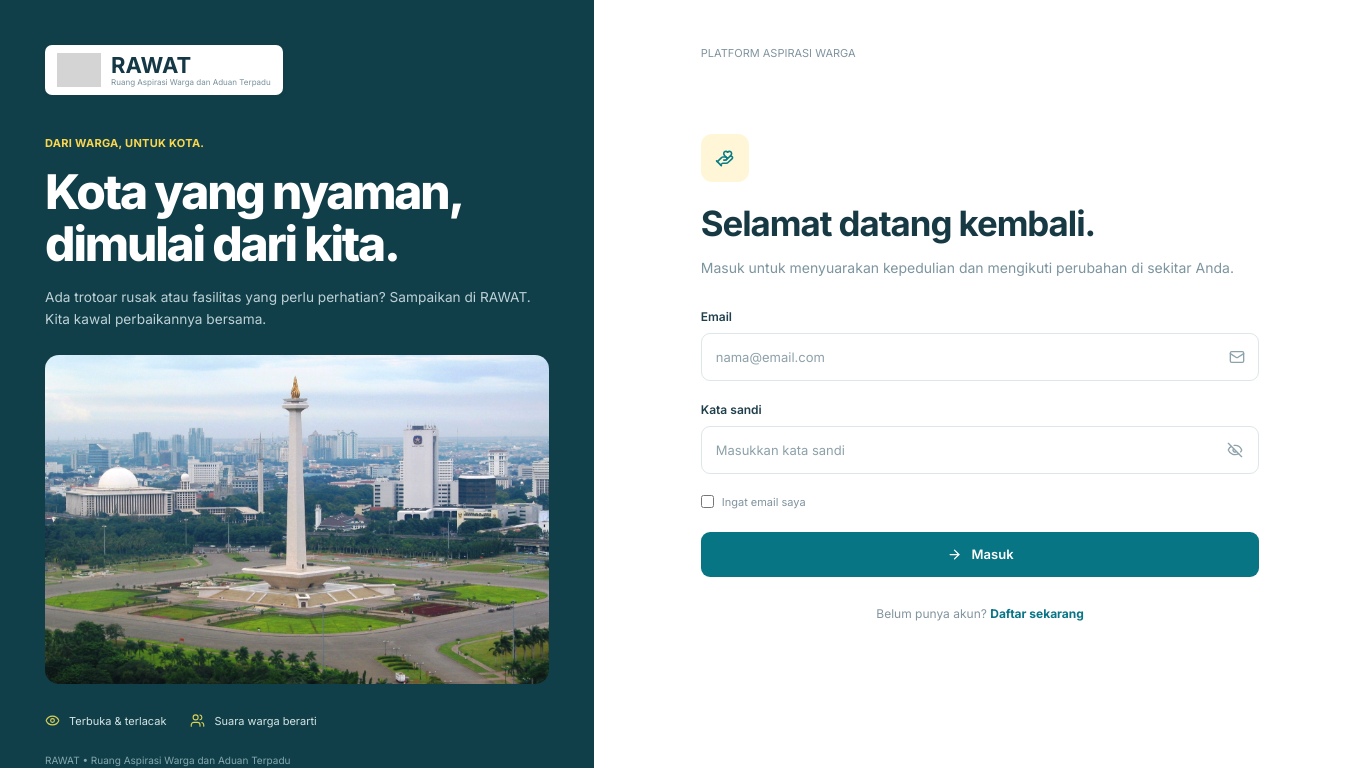
Test: PenggunaView.handleLogin › C17-UT02 - Login berhasil
Expected: the password field with id "login-password" is shown, [701,426,1260,474]
Type "samantha@example.com" into the field with id "login-email" at (980, 357), box [701,333,1260,381]
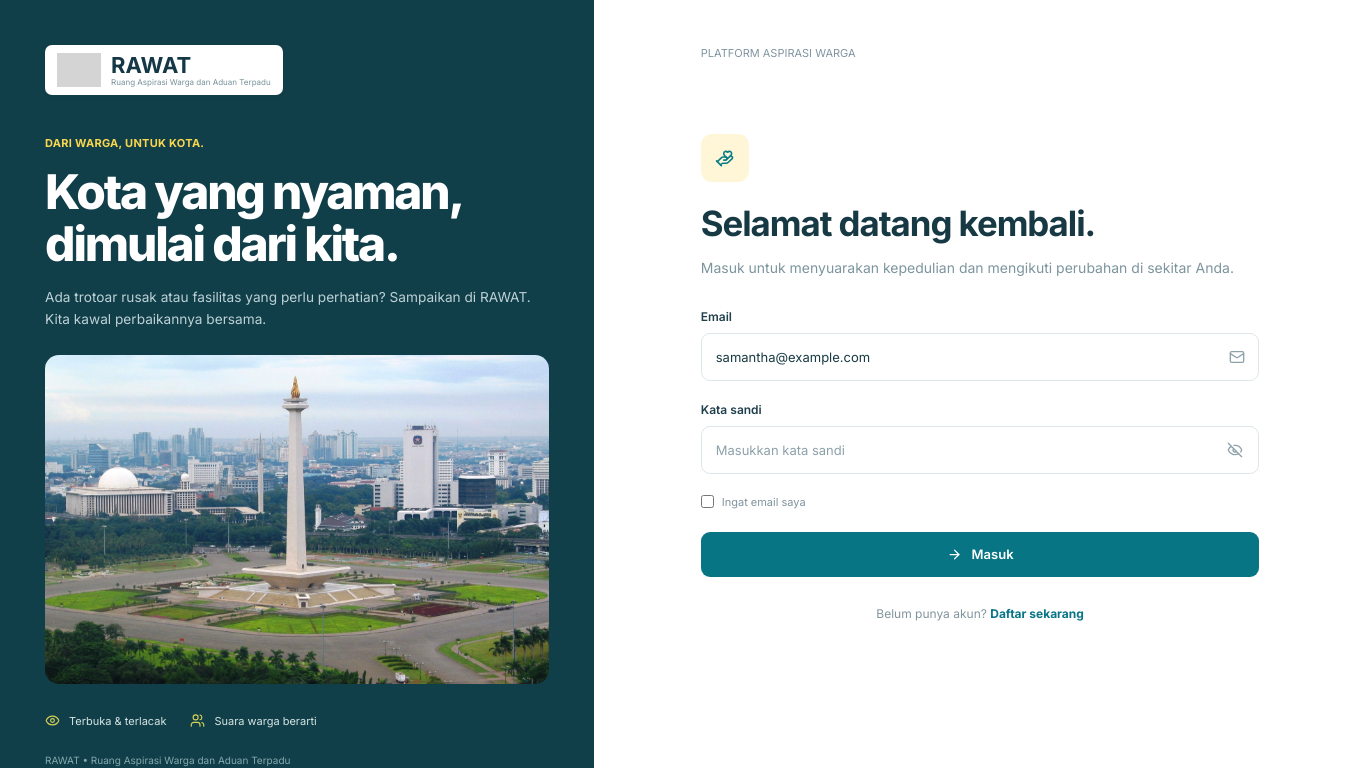
Type "Password1!" into the password field with id "login-password" at (980, 450), box [701,426,1260,474]
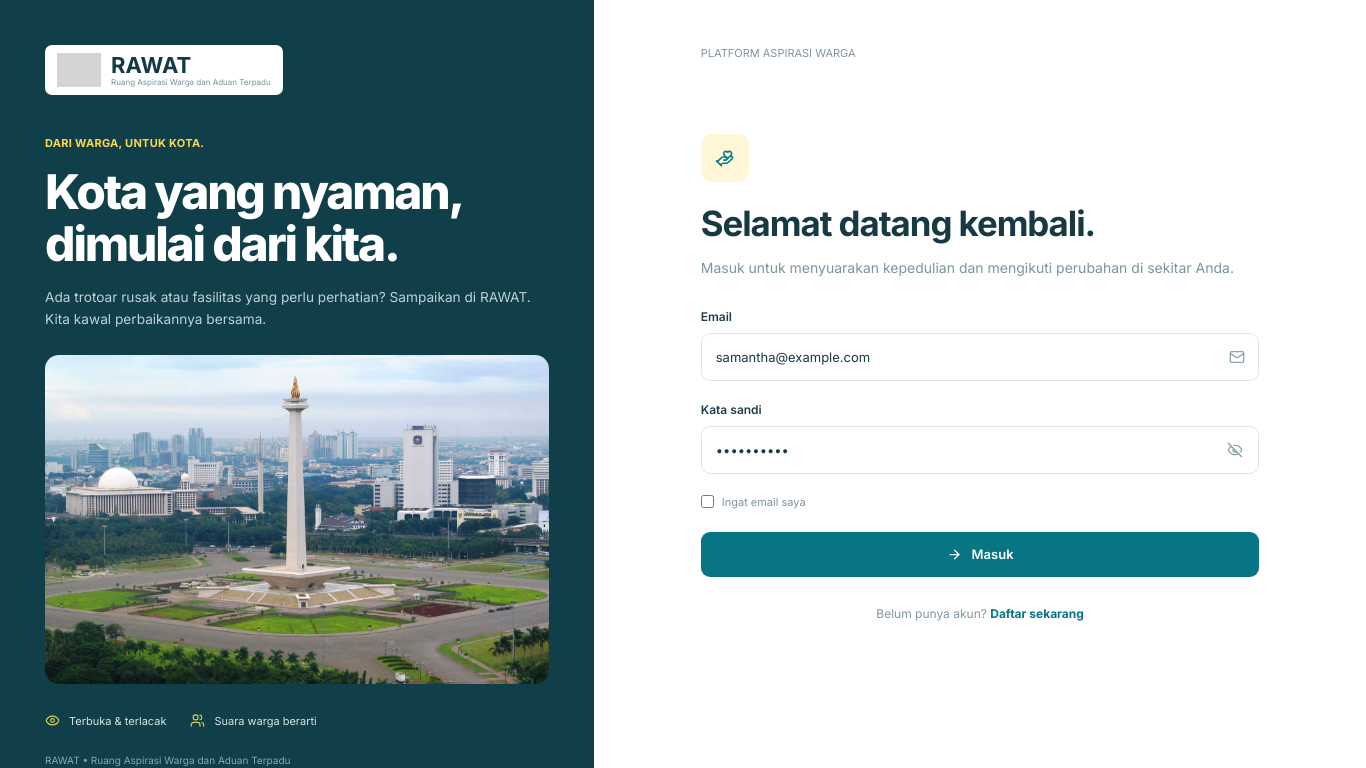
Submit the form "Email Kata sandi Ingat email saya Masuk", box [701,309,1260,577]
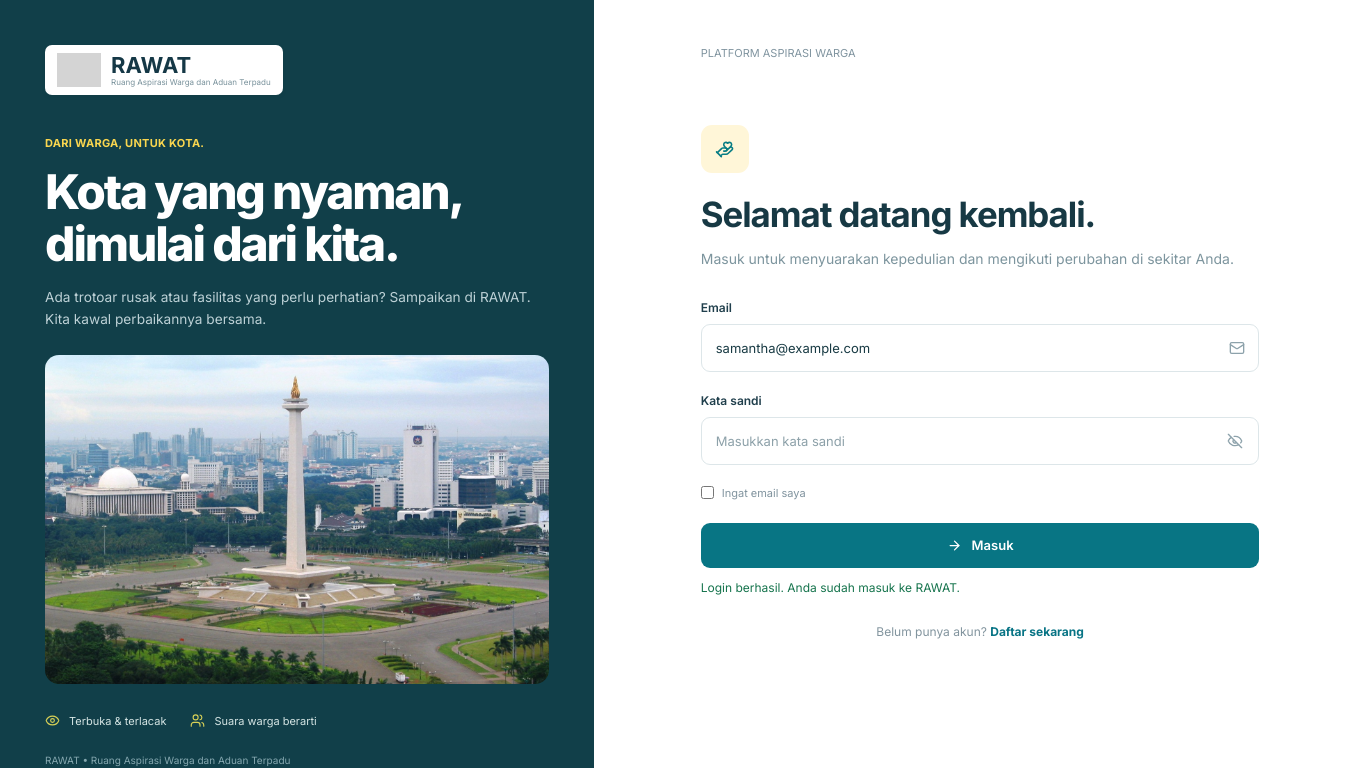
Result: the text "Login berhasil. Anda sudah masuk ke RAWAT." is shown at [701,580,960,595]
Result: the password field with id "login-password" is empty at [701,417,1260,465]
